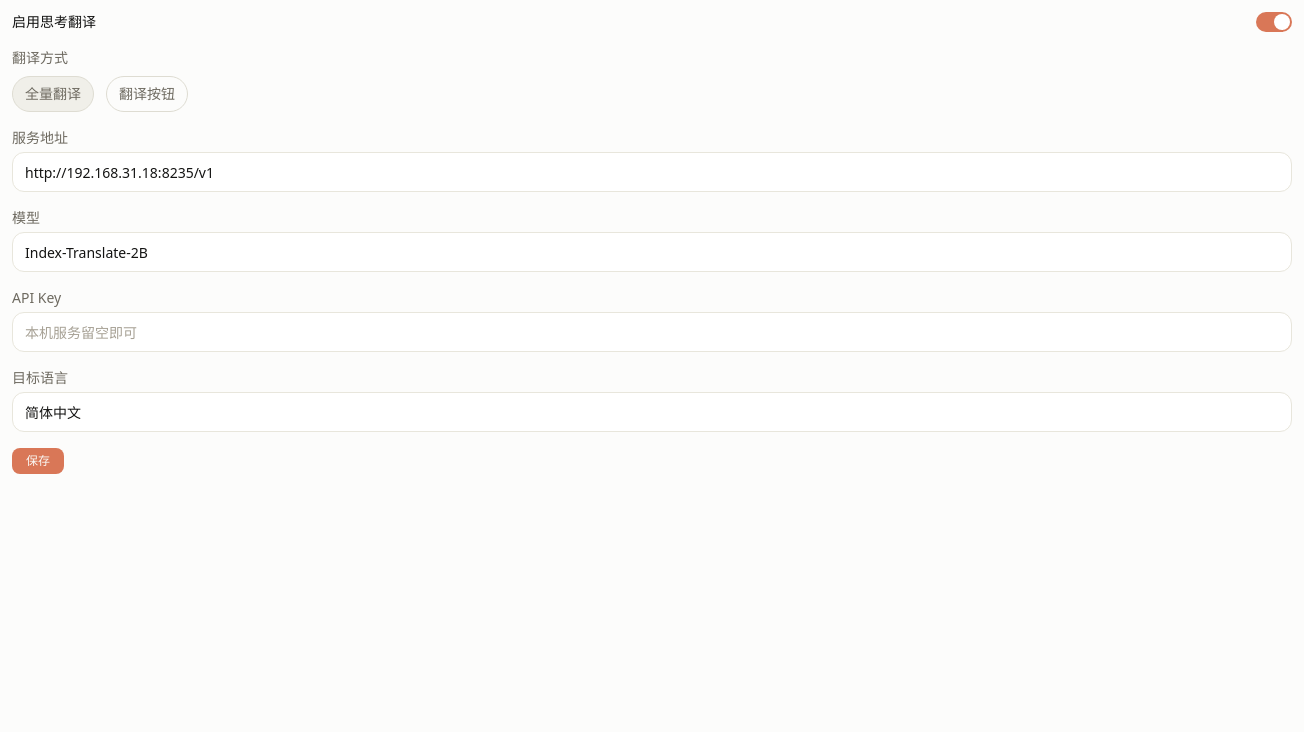
Test: 「思考翻译」组 › 目标语言 / 地址 / 模型都留空也能保存（空串 = 用预置；保存失败才会行内报错）
Step 1. Click the button with test id "translate-save" → click(38, 461), box x1=12 y1=448 x2=64 y2=474
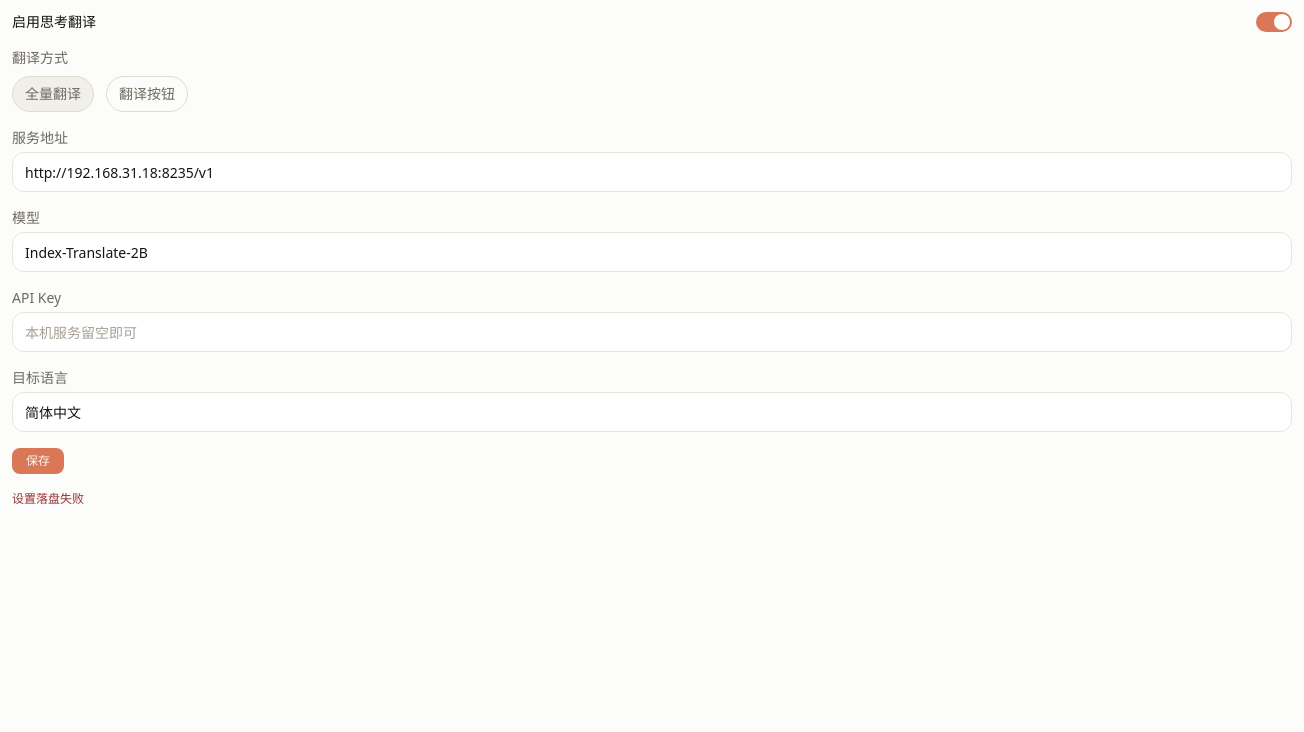
expect the text with test id "translate-error" reads "设置落盘失败": met, box x1=12 y1=490 x2=84 y2=507
